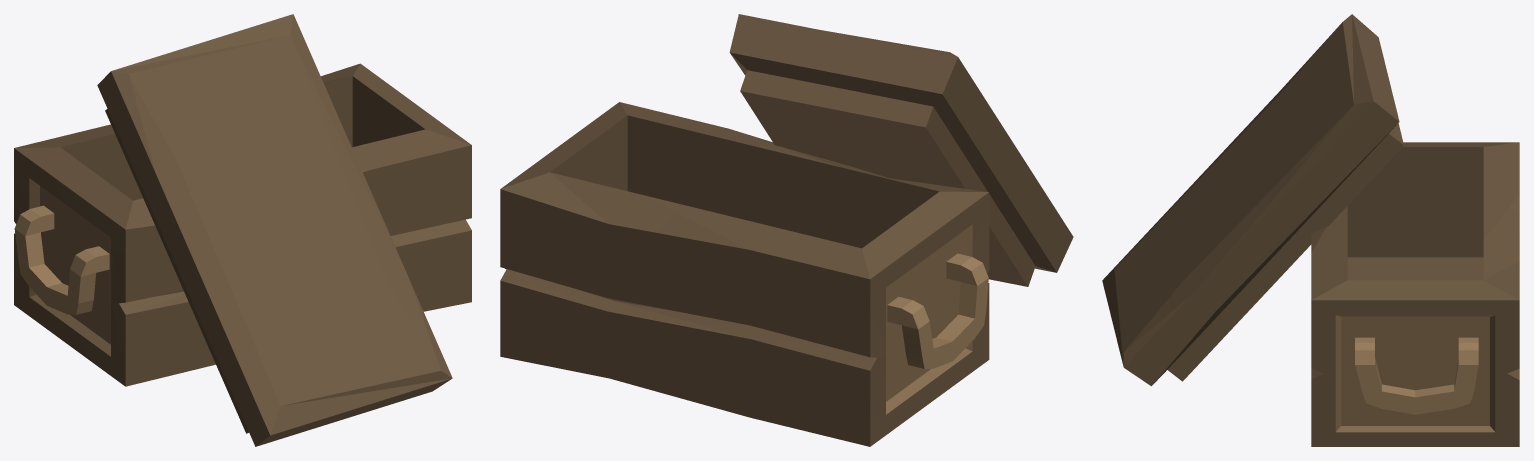
The model's file is Caja_Tapa.glb.
3 renders of one model, left to right at view 1: azimuth 30°, elevation 25°; view 2: azimuth 150°, elevation 25°; view 3: azimuth 270°, elevation 25°, orthographic. The views are drawn at different scales.
Visible parts, largest first — view 1: SM_Prop_Crate_Open_01; view 2: SM_Prop_Crate_Open_01; view 3: SM_Prop_Crate_Open_01.
Boxes of the visible parts, left/top/right/bottom form: SM_Prop_Crate_Open_01: left=14, top=14, right=471, bottom=446; SM_Prop_Crate_Open_01: left=500, top=14, right=1073, bottom=446; SM_Prop_Crate_Open_01: left=1102, top=14, right=1519, bottom=446.
Size of the model in its own units: 1.33 by 0.9707 by 1.31.
Materials: 1 (1 with a texture image).
